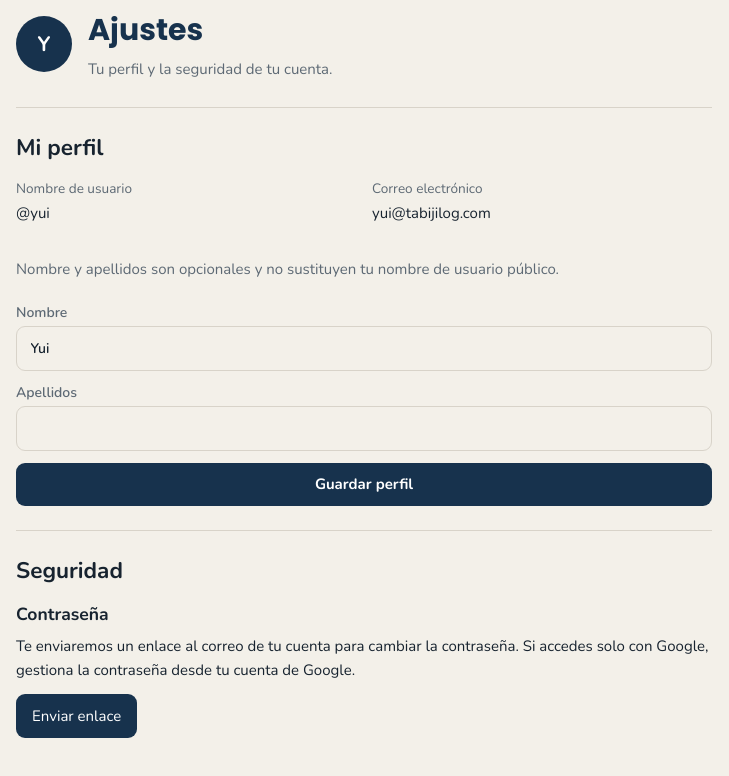
lets the user retry after a reset request fails
Click the button "Enviar enlace" at (77, 716), box [16,694,137,738]
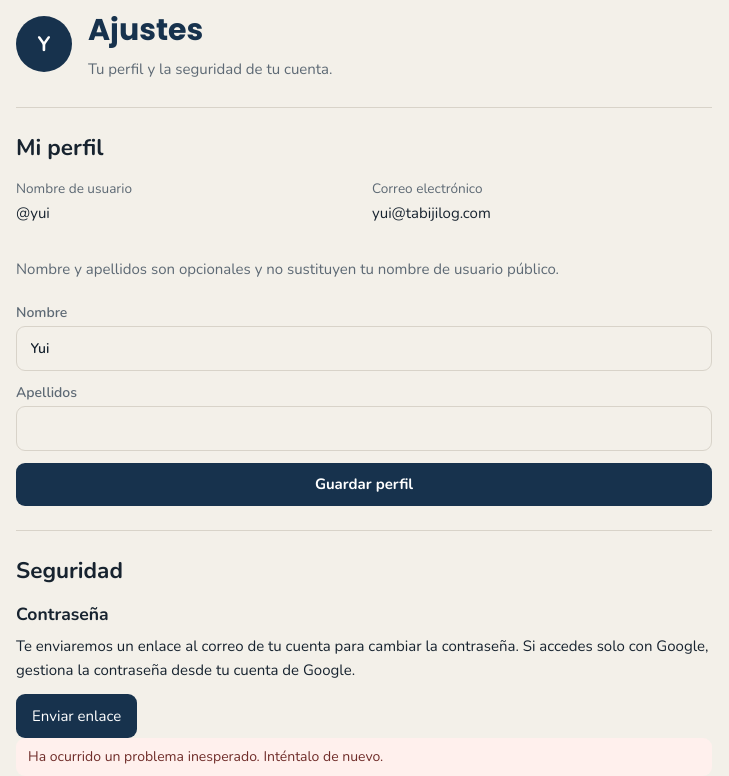
Check: the message "Ha ocurrido un problema inesperado. Inténtalo de nuevo." is shown, box [16,738,712,775]
